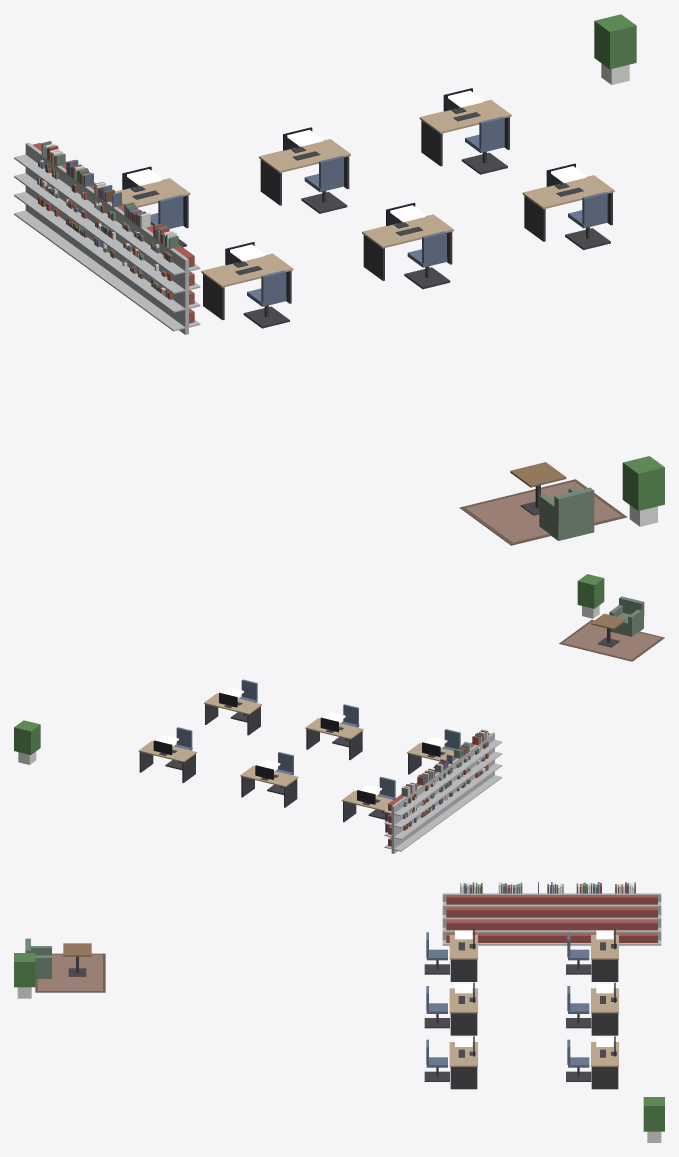
Rendered from fine-s1.glb.
3 views of the same model, one above another, from view 1: azimuth 30°, elevation 25°; view 2: azimuth 150°, elevation 25°; view 3: azimuth 270°, elevation 25° (orthographic). The views are drawn at different scales.
Parts seen in each view (by area): view 1: soft-s1, shelving.004, shelving.000, office-desk-real.002, office-desk-real.003, office-desk-real.005, office-desk-real.001, office-desk-real.004, shelving.002, plant-medium.001, plant-medium.000, sofa.000 (+10 smaller); view 2: soft-s1, shelving.000, office-desk-real.002, office-desk-real.004, office-desk-real.001, office-desk-real.005, shelving.002, shelving.003, shelving.004, plant-medium.000, sofa.000, plant-medium.001 (+9 smaller); view 3: soft-s1, shelving.000, shelving.003, shelving.002, shelving.004, shelving.001, office-desk-real.004, office-desk-real.005, office-desk-real.003, office-desk-real.001, office-desk-real.002, office-desk-real.000 (+10 smaller).
Part boxes in pixels (box(x1,y1,x2,y2)): soft-s1: box(37, 141, 626, 545); shelving.004: box(127, 226, 200, 334); shelving.000: box(14, 142, 71, 247); office-desk-real.002: box(419, 88, 511, 166); office-desk-real.003: box(201, 242, 293, 320); office-desk-real.005: box(522, 163, 614, 241); office-desk-real.001: box(259, 127, 350, 205); office-desk-real.004: box(362, 202, 453, 280); shelving.002: box(70, 185, 128, 289); plant-medium.001: box(594, 14, 636, 84); plant-medium.000: box(622, 456, 664, 526); sofa.000: box(539, 487, 594, 540); soft-s1: box(401, 619, 664, 830); shelving.000: box(384, 785, 430, 853); office-desk-real.002: box(138, 740, 196, 782); office-desk-real.004: box(305, 717, 363, 759); office-desk-real.001: box(240, 765, 298, 807); office-desk-real.005: box(204, 692, 261, 735); shelving.002: box(429, 758, 466, 825); shelving.003: box(448, 745, 484, 804); shelving.004: box(466, 732, 502, 798); plant-medium.000: box(577, 574, 604, 618); sofa.000: box(609, 596, 644, 636); plant-medium.001: box(14, 720, 40, 764); soft-s1: box(35, 882, 635, 992); shelving.000: box(598, 893, 661, 945); shelving.003: box(481, 893, 544, 945); shelving.002: box(520, 893, 583, 945); shelving.004: box(442, 893, 506, 945); shelving.001: box(559, 893, 622, 945); office-desk-real.004: box(449, 982, 477, 1035); office-desk-real.005: box(449, 1036, 477, 1089); office-desk-real.003: box(449, 929, 477, 981); office-desk-real.001: box(591, 982, 618, 1035); office-desk-real.002: box(591, 1036, 618, 1089); office-desk-real.000: box(591, 929, 618, 981).
Size of the model in its own units: 13.67 by 1.93 by 18.45.
